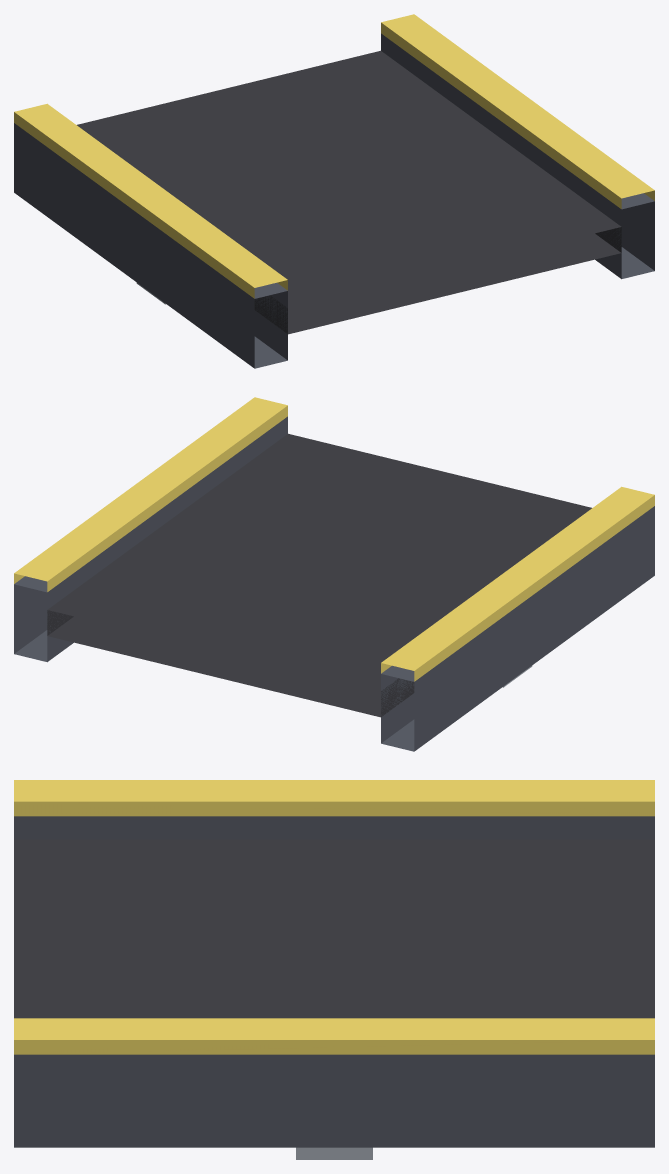
Rendered from esteira_reta.glb.
The picture shows the model from 3 angles, top to bottom: view 1: azimuth 30°, elevation 25°; view 2: azimuth 150°, elevation 25°; view 3: azimuth 270°, elevation 25°; orthographic projection. The views are drawn at different scales.
Visible parts, largest first — view 1: EST_Reta; view 2: EST_Reta; view 3: EST_Reta.
Part boxes in pixels (x1=…): EST_Reta: x1=14, y1=14, x2=654, y2=368; EST_Reta: x1=14, y1=397, x2=654, y2=751; EST_Reta: x1=14, y1=780, x2=654, y2=1159.
Size of the model in its own units: 0.96 by 0.225 by 1.
